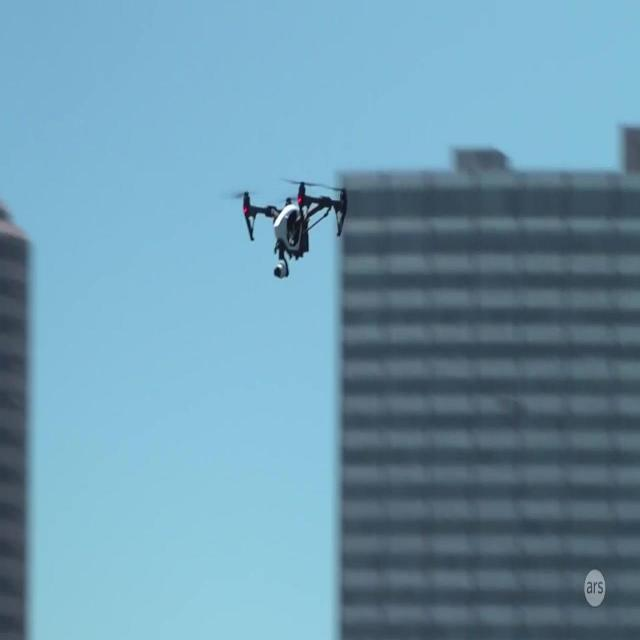UAV: (224, 178, 347, 279)
